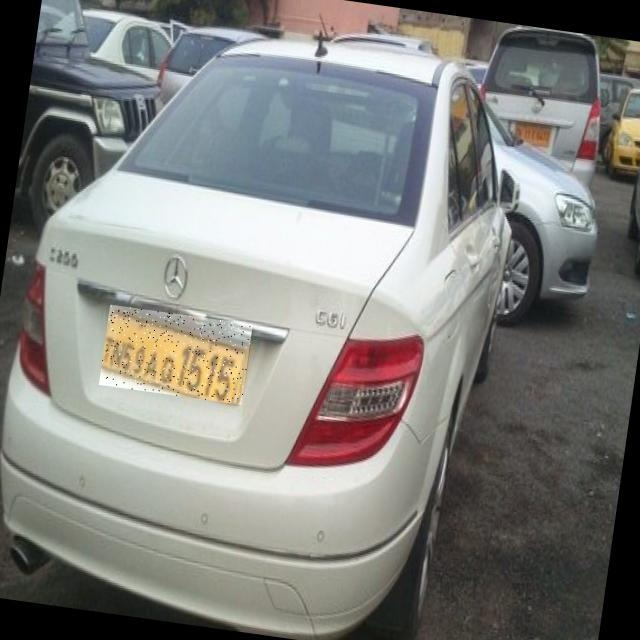Plate: (100, 306, 254, 406)
